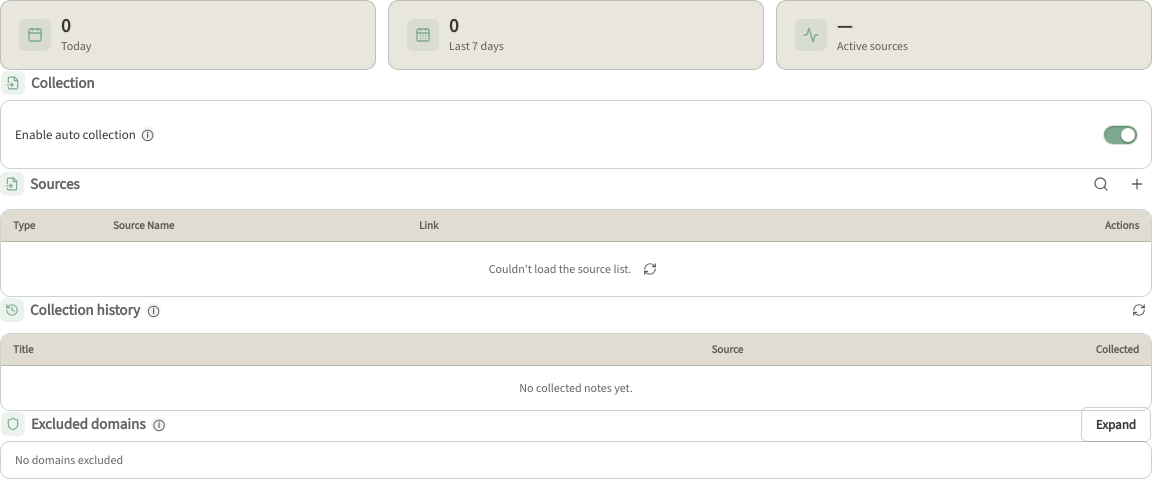
Test case: CollectSection › a failed list load says so (with retry) instead of claiming there are no sources
The image size is (1164, 496).
Expected: the element with test id "collect-load-failed" is shown, [489,256,663,282]
Click the button with test id "collect-load-retry".
click(650, 269)  # box [637,256,663,282]
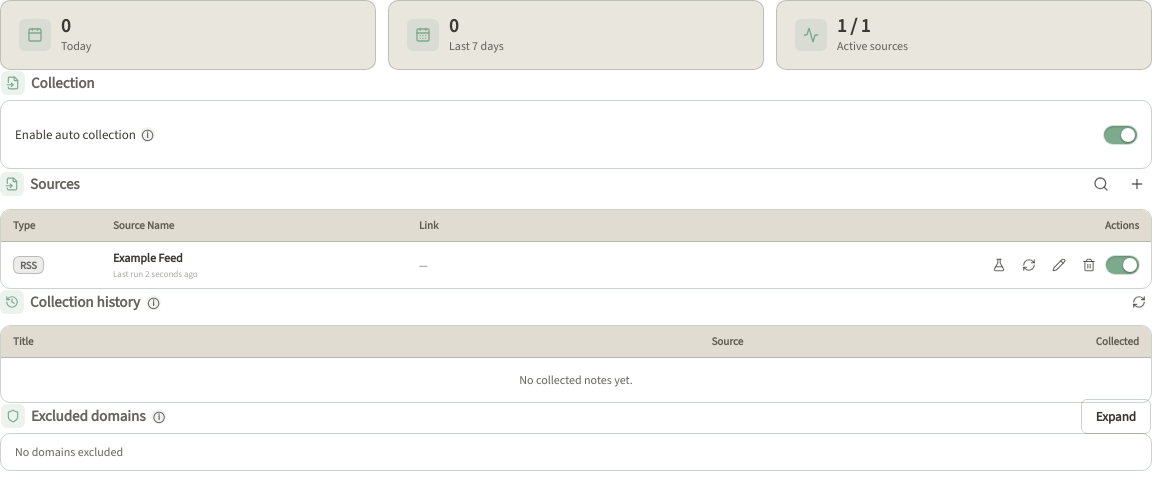
Result: the text "Example Feed" is shown at [113,250,183,266]
